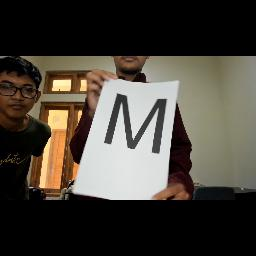m: (104, 92, 168, 158)
